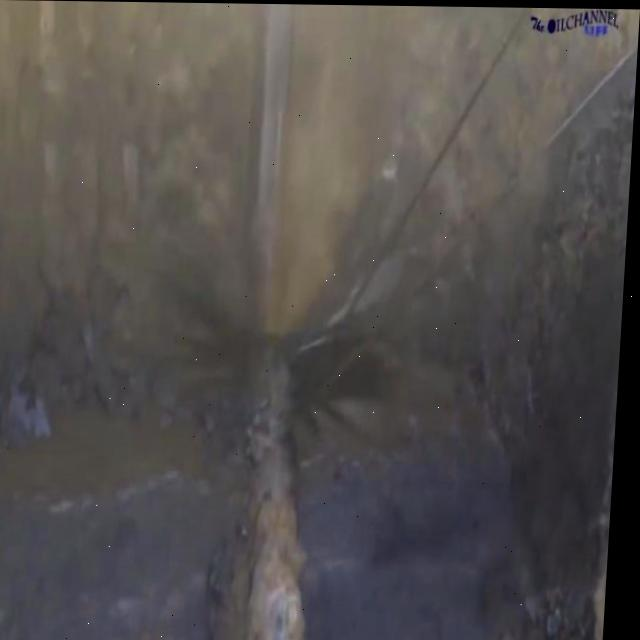spillage: (0, 387, 585, 640), (159, 244, 392, 444)
